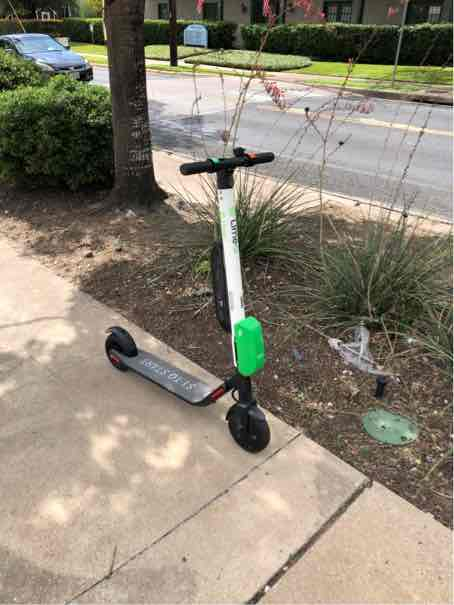scooter: (91, 144, 286, 465)
